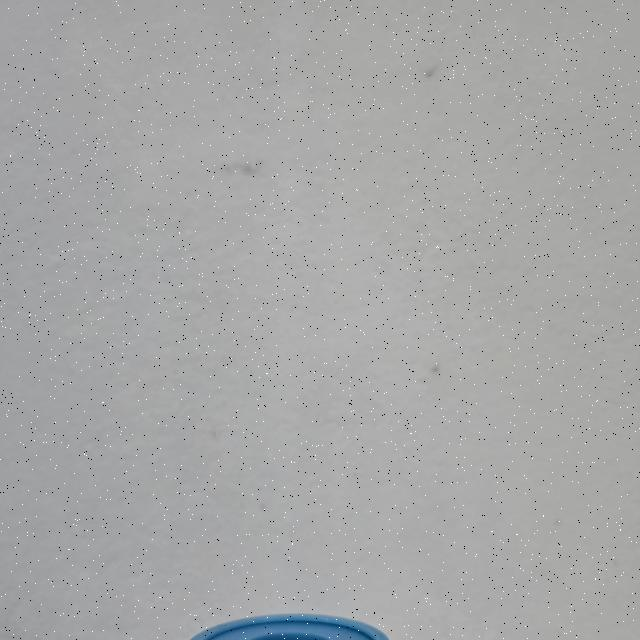procitex: (178, 608, 396, 640)
